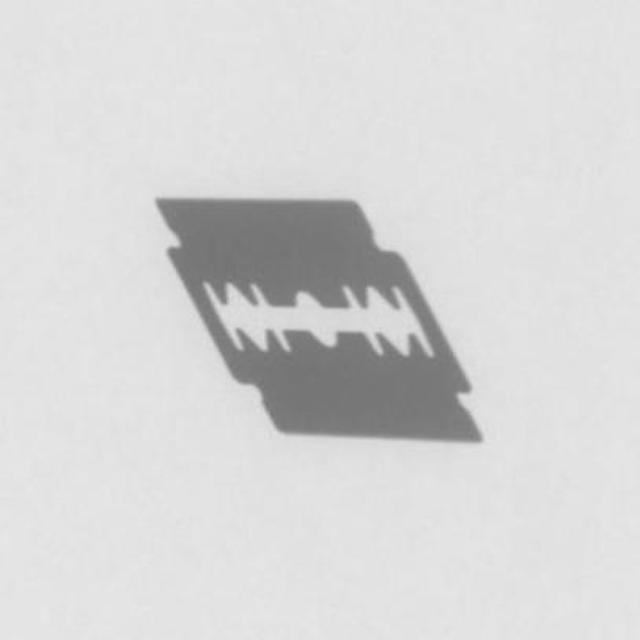razor: (148, 193, 492, 445)
